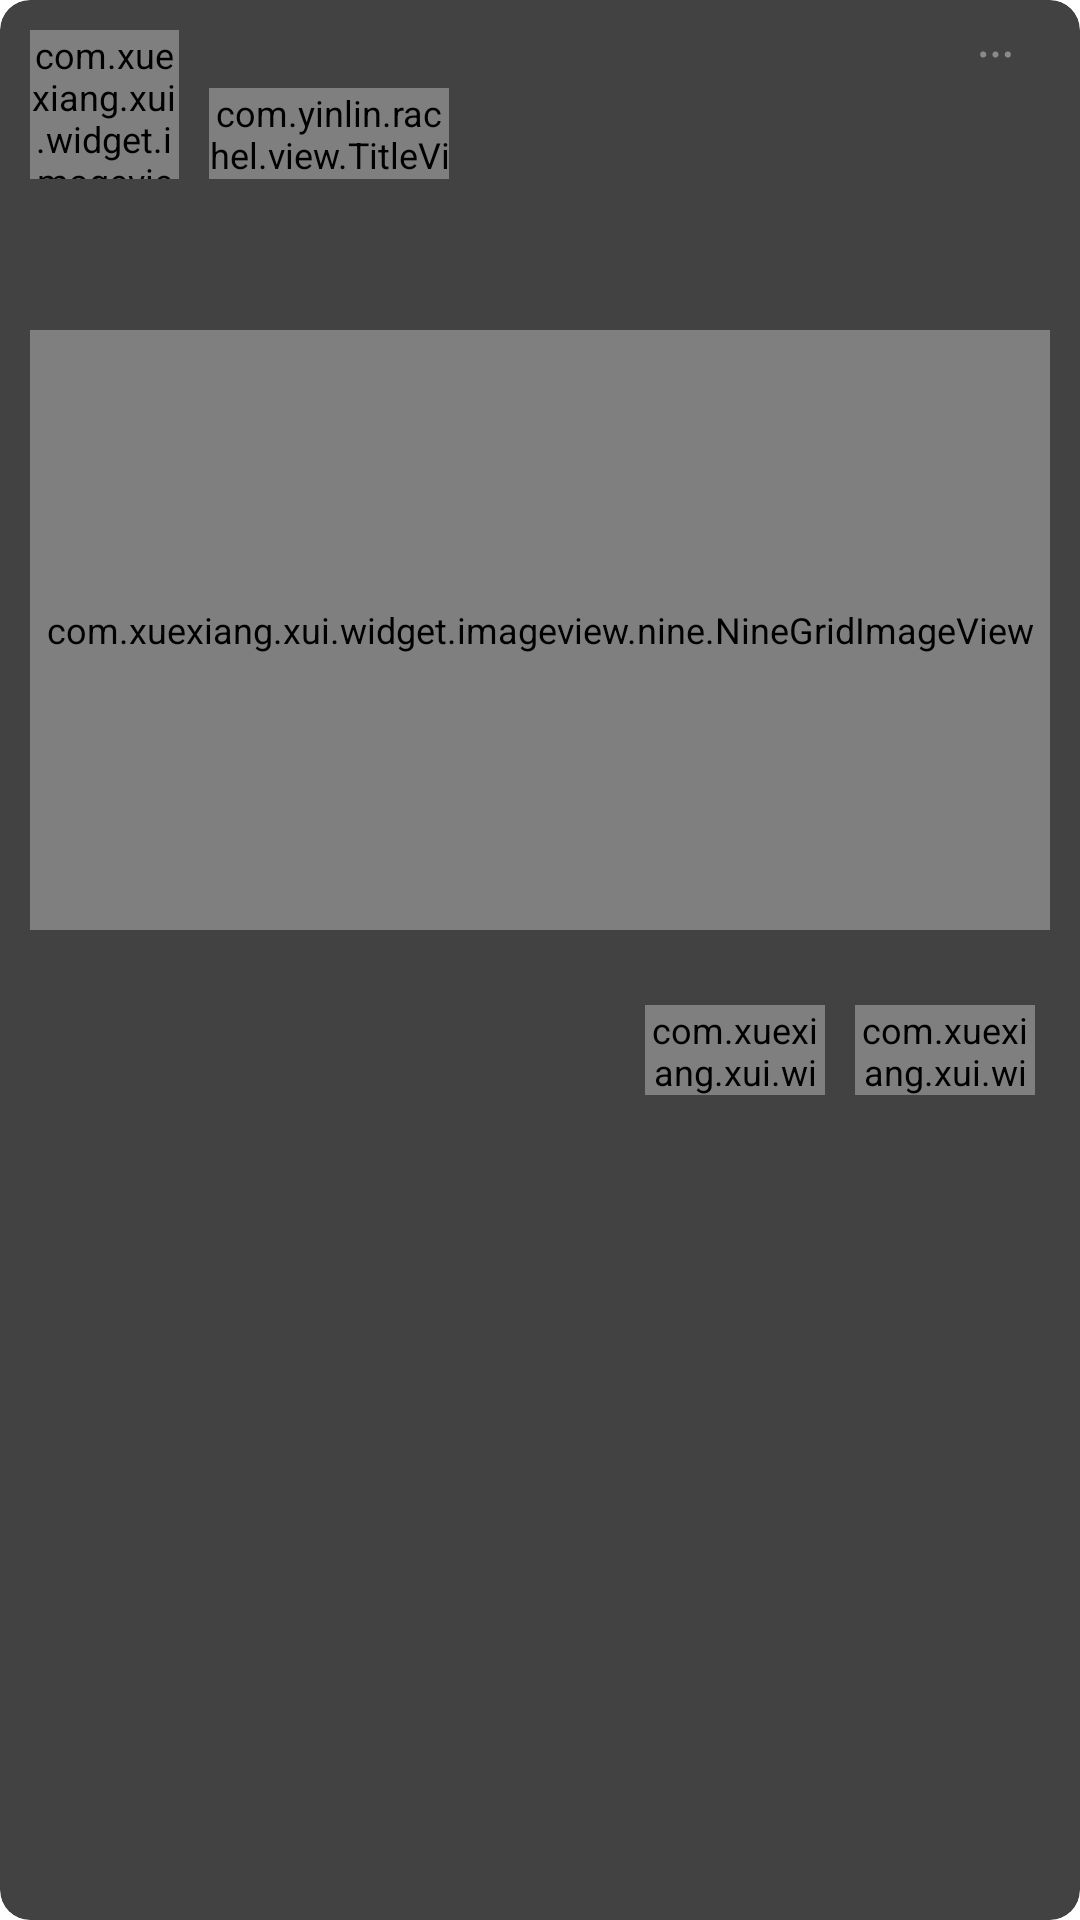

Where to tap for icons on this 1080w x 1920h app screen, as (x,y):
more: (995,54)
